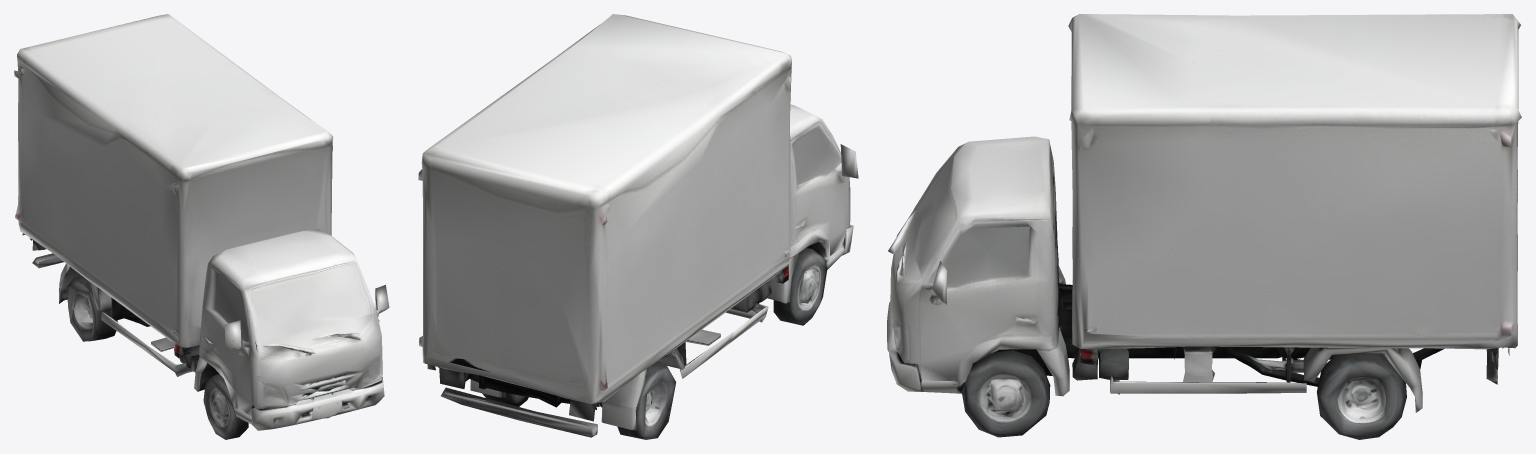
The model's file is truck.glb.
3 views of the same model, side by side, from view 1: azimuth 30°, elevation 25°; view 2: azimuth 150°, elevation 25°; view 3: azimuth 270°, elevation 25° (orthographic). The views are drawn at different scales.
Parts seen in each view (by area): view 1: tripo_node_98ed929c-ed88-490c-8b44-d75be0ac7f30; view 2: tripo_node_98ed929c-ed88-490c-8b44-d75be0ac7f30; view 3: tripo_node_98ed929c-ed88-490c-8b44-d75be0ac7f30.
Part boxes in pixels (x1=…): tripo_node_98ed929c-ed88-490c-8b44-d75be0ac7f30: x1=14, y1=14, x2=389, y2=439; tripo_node_98ed929c-ed88-490c-8b44-d75be0ac7f30: x1=418, y1=14, x2=858, y2=439; tripo_node_98ed929c-ed88-490c-8b44-d75be0ac7f30: x1=887, y1=14, x2=1521, y2=439.
Size of the model in its own units: 0.397 by 0.5852 by 1.
Materials: 1 (1 with a texture image).
